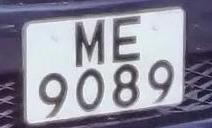0: (71, 66, 109, 116)
8: (109, 61, 144, 112)
9: (33, 64, 74, 123), (143, 58, 178, 108)
E: (106, 13, 148, 67)
M: (69, 17, 111, 70)
